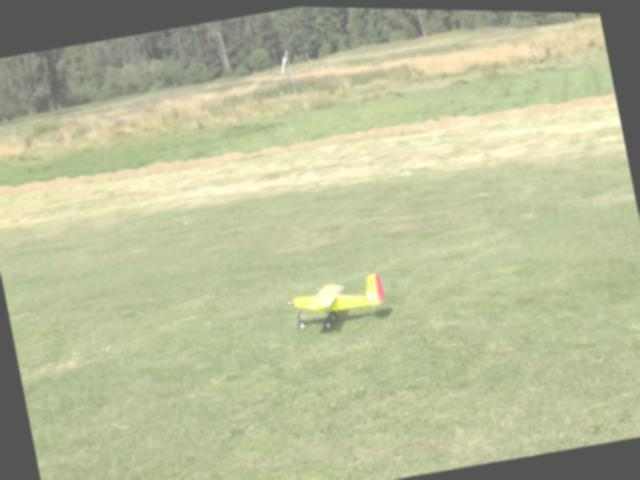plane: (285, 270, 389, 337)
